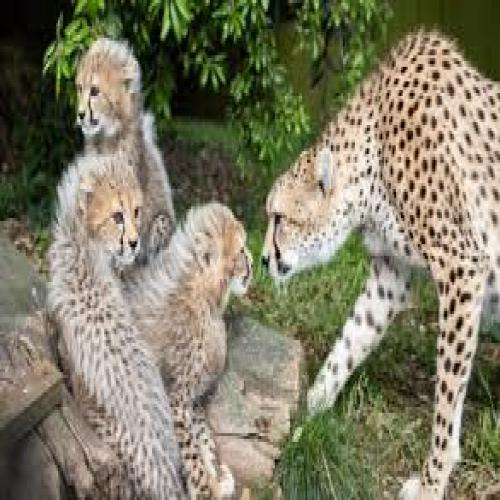cheetah-endangered: (262, 25, 500, 500), (46, 155, 188, 500), (134, 201, 254, 500), (75, 36, 176, 247)
